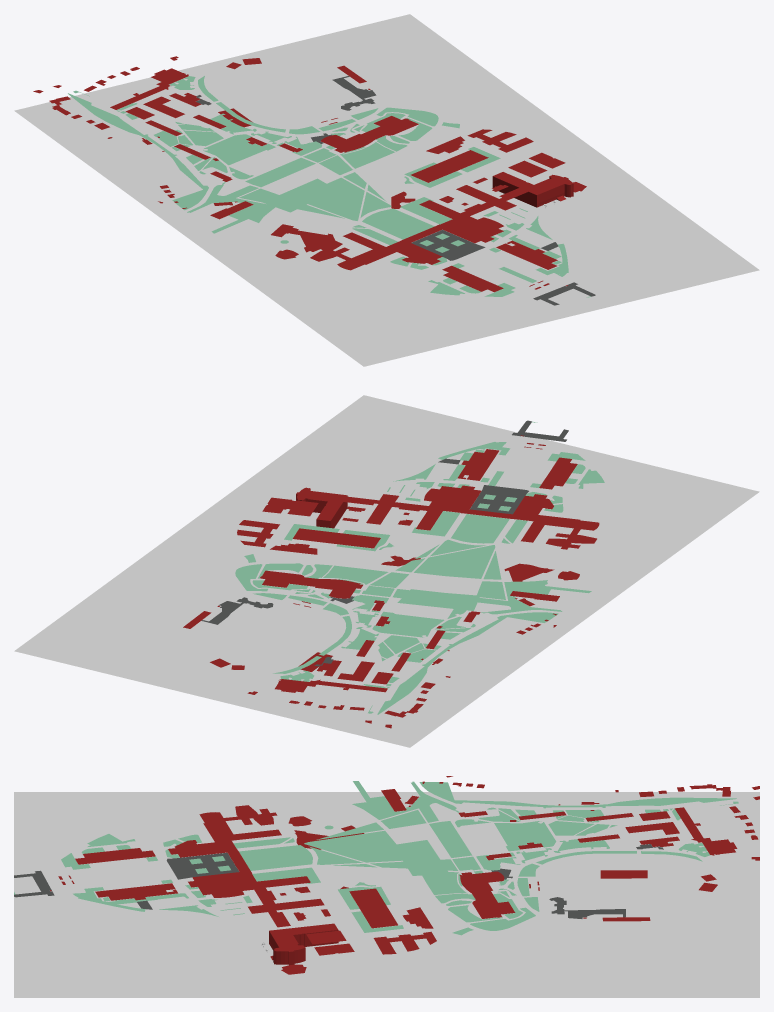
File: univ.glb
3 renders of one model, top to bottom at view 1: azimuth 30°, elevation 25°; view 2: azimuth 150°, elevation 25°; view 3: azimuth 270°, elevation 25°, orthographic. The views are drawn at different scales.
Visible parts, largest first — view 1: Terrain, element, element.358, Bâtiment L, element.468, element.001, element.346, element.463, Bâtiment D, Cour d'honneur, Bâtiment G, Bâtiment A (+8 smaller); view 2: Terrain, element, element.358, element.468, element.001, element.346, Bâtiment L, element.463, Bâtiment D, Cour d'honneur, Bâtiment G, Bâtiment A (+7 smaller); view 3: Terrain, element, element.358, Bâtiment L, element.468, element.001, element.346, element.463, Bâtiment D, Cour d'honneur, Bâtiment G, Bâtiment A (+25 smaller).
Boxes of the visible parts, x1=… form: Terrain: x1=14, y1=14, x2=759, y2=366; element: x1=187, y1=148, x2=336, y2=233; element.358: x1=295, y1=177, x2=364, y2=220; Bâtiment L: x1=492, y1=172, x2=573, y2=207; element.468: x1=68, y1=93, x2=208, y2=210; element.001: x1=239, y1=135, x2=407, y2=205; element.346: x1=362, y1=208, x2=434, y2=239; element.463: x1=203, y1=134, x2=275, y2=165; Bâtiment D: x1=337, y1=232, x2=409, y2=270; Cour d'honneur: x1=411, y1=230, x2=485, y2=260; Bâtiment G: x1=411, y1=150, x2=488, y2=182; Bâtiment A: x1=496, y1=240, x2=557, y2=269; Terrain: x1=14, y1=395, x2=759, y2=747; element: x1=362, y1=580, x2=591, y2=614; element.358: x1=414, y1=545, x2=495, y2=578; element.468: x1=377, y1=612, x2=558, y2=714; element.001: x1=306, y1=564, x2=505, y2=599; element.346: x1=451, y1=514, x2=509, y2=543; Bâtiment L: x1=296, y1=487, x2=347, y2=528; element.463: x1=372, y1=611, x2=444, y2=637; Bâtiment D: x1=517, y1=513, x2=599, y2=542; Cour d'honneur: x1=470, y1=485, x2=528, y2=514; Bâtiment G: x1=293, y1=528, x2=380, y2=548; Bâtiment A: x1=457, y1=449, x2=498, y2=480; Terrain: x1=14, y1=792, x2=759, y2=997; element: x1=352, y1=781, x2=480, y2=870; element.358: x1=304, y1=830, x2=407, y2=862; Bâtiment L: x1=269, y1=923, x2=338, y2=965; element.468: x1=419, y1=782, x2=736, y2=808; element.001: x1=381, y1=810, x2=475, y2=903; element.346: x1=239, y1=845, x2=312, y2=870; element.463: x1=494, y1=821, x2=556, y2=851; Bâtiment D: x1=199, y1=812, x2=281, y2=850; Cour d'honneur: x1=166, y1=852, x2=238, y2=879; Bâtiment G: x1=349, y1=888, x2=397, y2=928; Bâtiment A: x1=95, y1=883, x2=177, y2=900.
Bounding box in the file's own units: 566 × 20.38 × 866.
